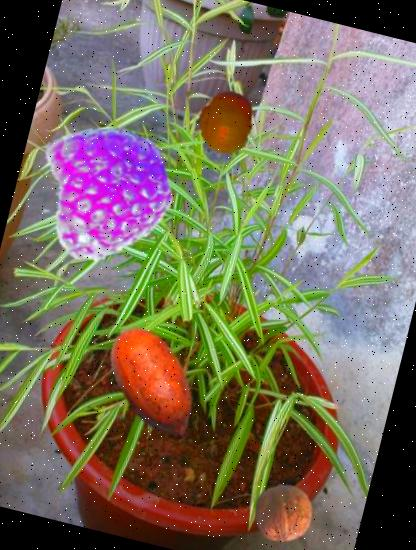Mandarine: (186, 84, 265, 163)
Nut: (78, 308, 232, 461)
Raspberry: (28, 110, 192, 274)
Walnut: (247, 477, 320, 550)
